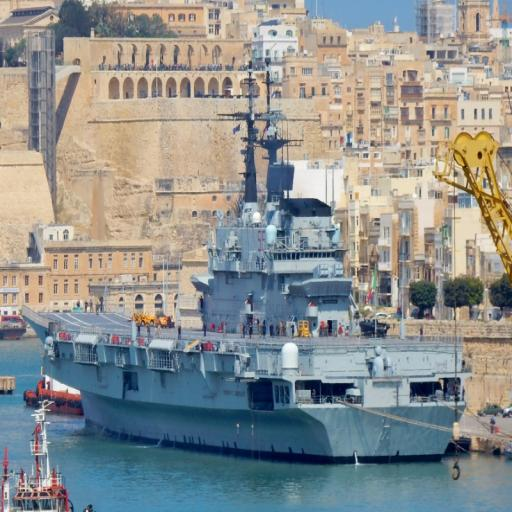Portanaves: (18, 56, 469, 468)
